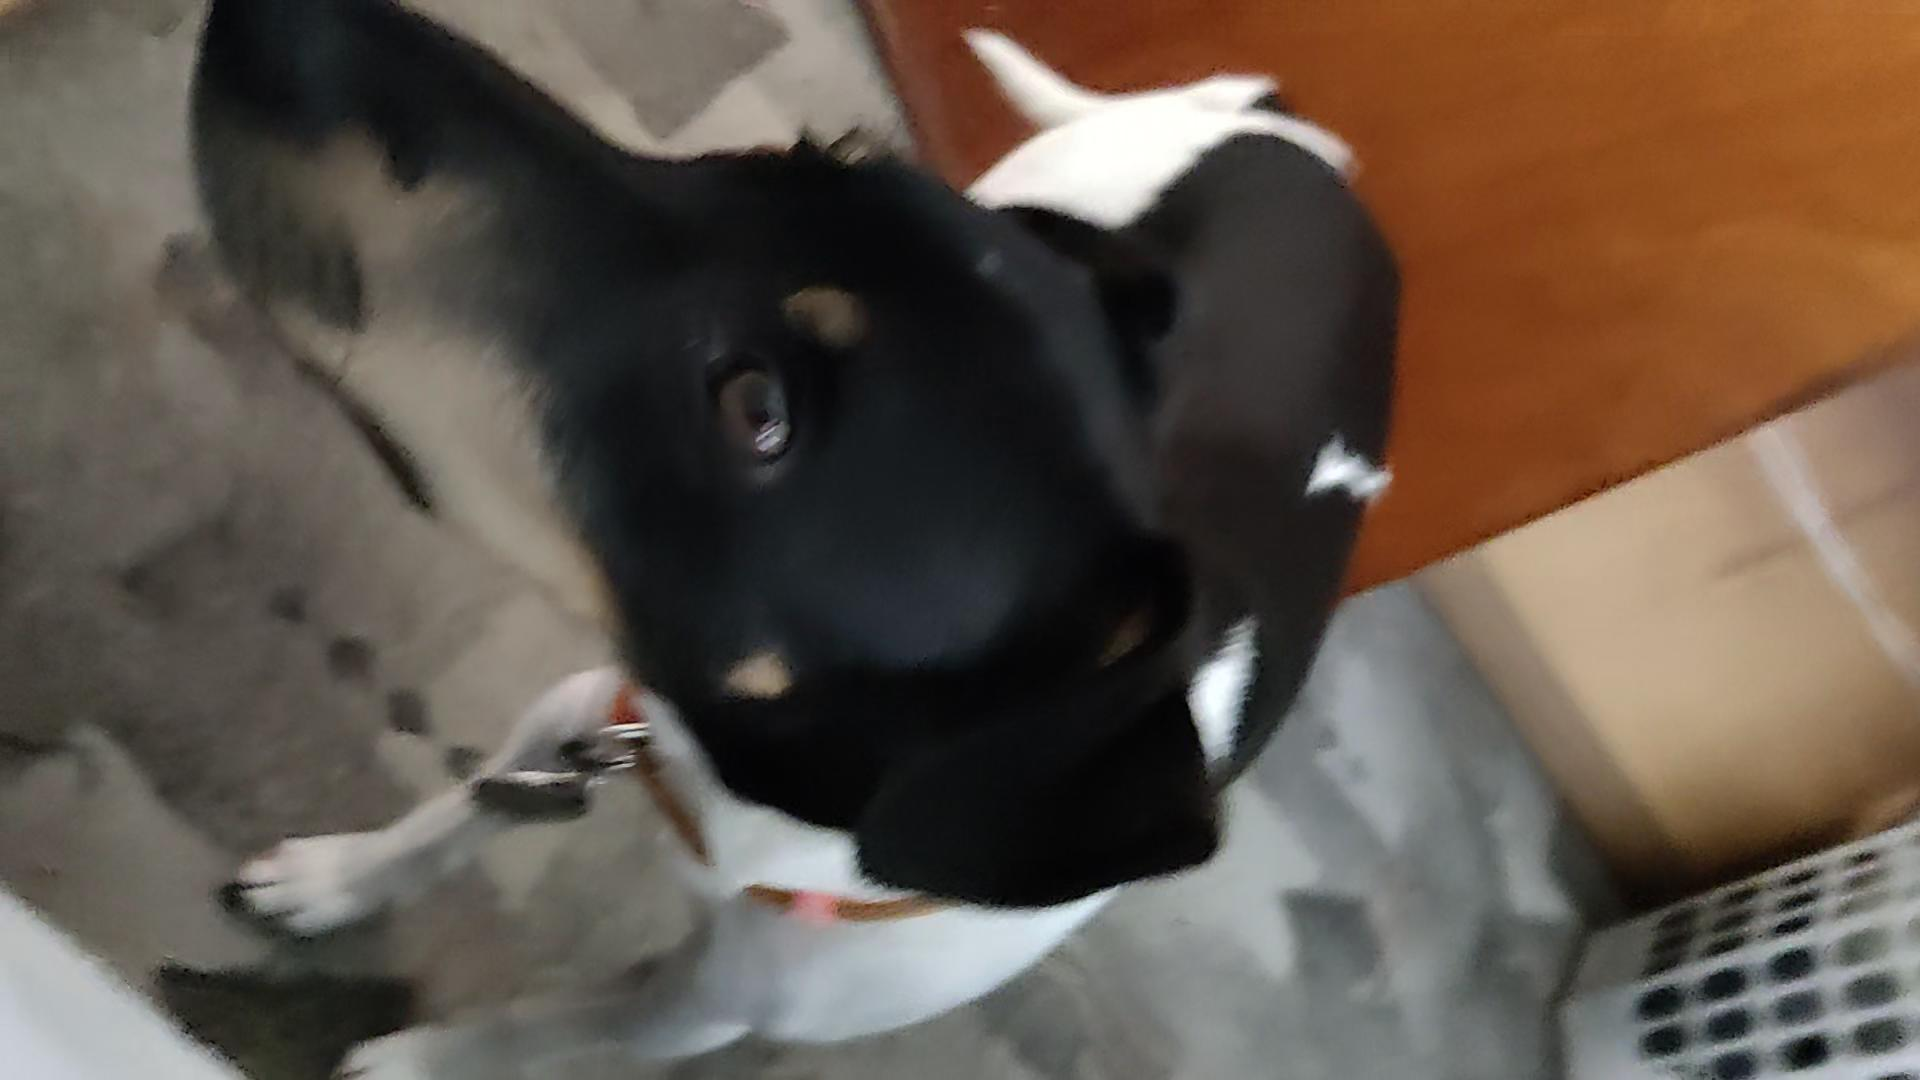Dog: (128, 0, 1439, 1080)
